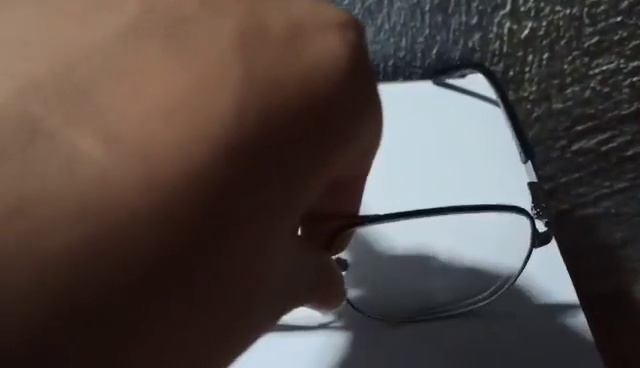glasses: (306, 63, 558, 333)
